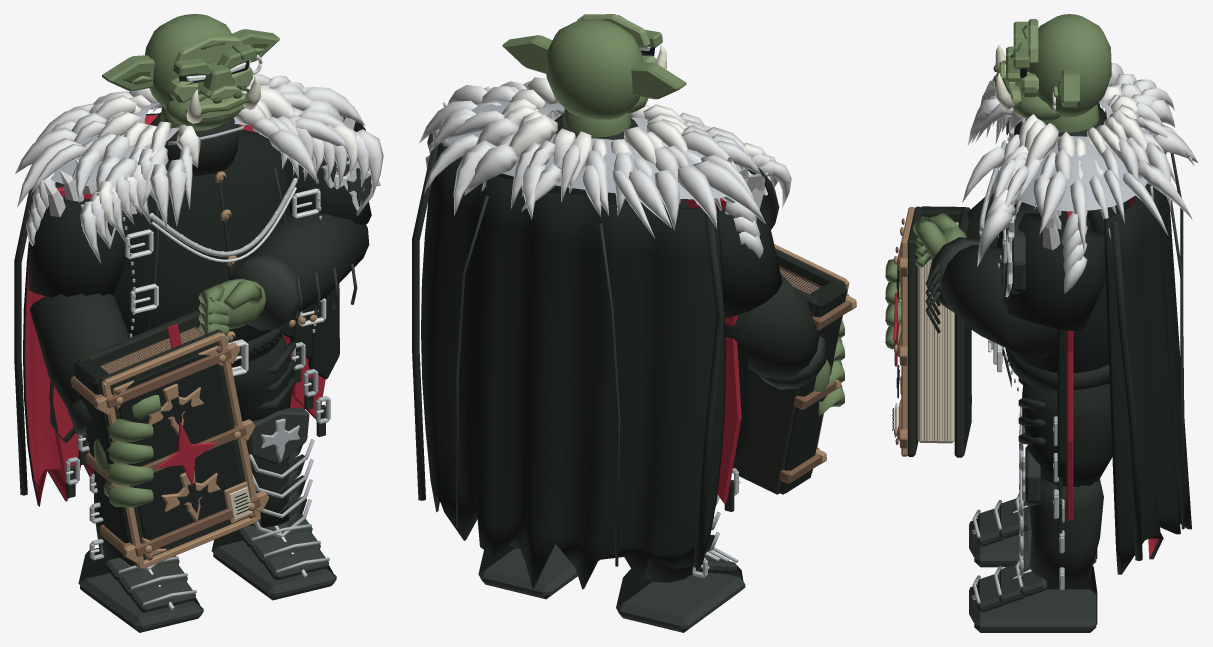
Rendered from texture-first-orc-bookkeeper-v1.glb.
The picture shows the model from 3 angles, left to right: view 1: azimuth 30°, elevation 25°; view 2: azimuth 150°, elevation 25°; view 3: azimuth 270°, elevation 25°; orthographic projection. The views are drawn at different scales.
Parts seen in each view (by area): view 1: CORE_chest, CORE_hand.R, CORE_head, CORE_forearm.L, CORE_upper_arm.R, CORE_forearm.R, CORE_foot.L, CORE_foot.R, CORE_shin.L, CORE_upper_arm.L, CORE_thigh.L, CORE_hand.L (+2 smaller); view 2: CORE_chest, CORE_hand.R, CORE_head, CORE_forearm.R, CORE_foot.R, CORE_upper_arm.R, CORE_foot.L, CORE_shin.R; view 3: CORE_chest, CORE_hand.R, CORE_head, CORE_upper_arm.L, CORE_forearm.L, CORE_shin.L, CORE_foot.L, CORE_thigh.L, CORE_foot.R, CORE_pelvis, CORE_hand.L, CORE_forearm.R.
Boxes of the visible parts, left/top/right/bottom form: CORE_chest: left=14, top=74, right=383, bottom=506; CORE_hand.R: left=70, top=311, right=268, bottom=568; CORE_head: left=102, top=14, right=279, bottom=127; CORE_forearm.L: left=229, top=212, right=369, bottom=330; CORE_upper_arm.R: left=28, top=159, right=137, bottom=297; CORE_forearm.R: left=29, top=293, right=130, bottom=435; CORE_foot.L: left=211, top=515, right=336, bottom=600; CORE_foot.R: left=78, top=548, right=203, bottom=632; CORE_shin.L: left=246, top=408, right=314, bottom=537; CORE_upper_arm.L: left=281, top=106, right=380, bottom=224; CORE_thigh.L: left=233, top=332, right=296, bottom=421; CORE_hand.L: left=198, top=279, right=265, bottom=344; CORE_chest: left=412, top=77, right=791, bottom=589; CORE_hand.R: left=732, top=244, right=856, bottom=494; CORE_head: left=502, top=14, right=686, bottom=119; CORE_forearm.R: left=725, top=274, right=827, bottom=389; CORE_foot.R: left=616, top=547, right=745, bottom=632; CORE_upper_arm.R: left=718, top=151, right=782, bottom=317; CORE_foot.L: left=478, top=544, right=599, bottom=599; CORE_shin.R: left=644, top=494, right=720, bottom=582; CORE_chest: left=962, top=63, right=1197, bottom=574; CORE_hand.R: left=885, top=206, right=971, bottom=457; CORE_head: left=993, top=14, right=1111, bottom=122; CORE_upper_arm.L: left=1001, top=197, right=1105, bottom=331; CORE_forearm.L: left=925, top=237, right=1073, bottom=358; CORE_shin.L: left=1019, top=445, right=1103, bottom=590; CORE_foot.L: left=969, top=558, right=1097, bottom=632; CORE_thigh.L: left=1018, top=382, right=1112, bottom=487; CORE_foot.R: left=969, top=493, right=1097, bottom=567; CORE_pelvis: left=988, top=339, right=1109, bottom=390; CORE_hand.L: left=913, top=213, right=966, bottom=267; CORE_forearm.R: left=966, top=193, right=999, bottom=247.
Bounding box in the file's own units: 2.59 × 4.08 × 2.05.
